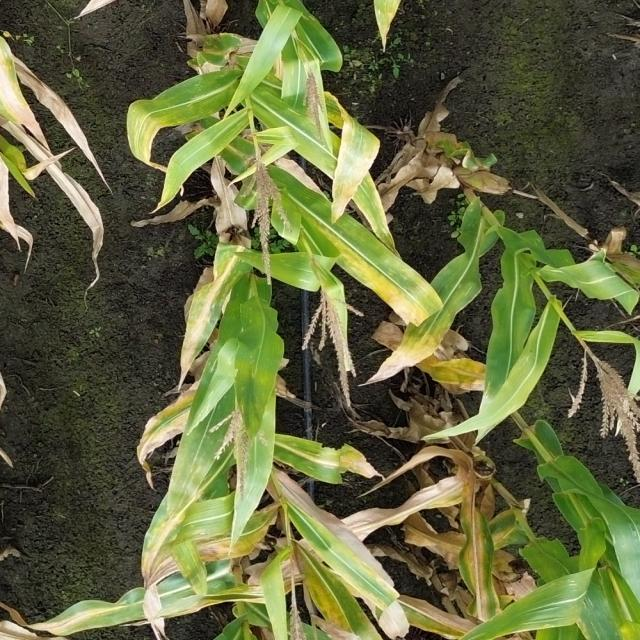gray-leaf-spot: (523, 573, 632, 640), (274, 424, 378, 494)
northern-leaf-blight: (288, 197, 451, 331), (118, 450, 255, 608), (295, 508, 431, 640), (437, 482, 538, 624), (310, 91, 397, 223), (380, 320, 502, 392)
southern-leaf-blight: (159, 242, 266, 379), (108, 78, 240, 169)
